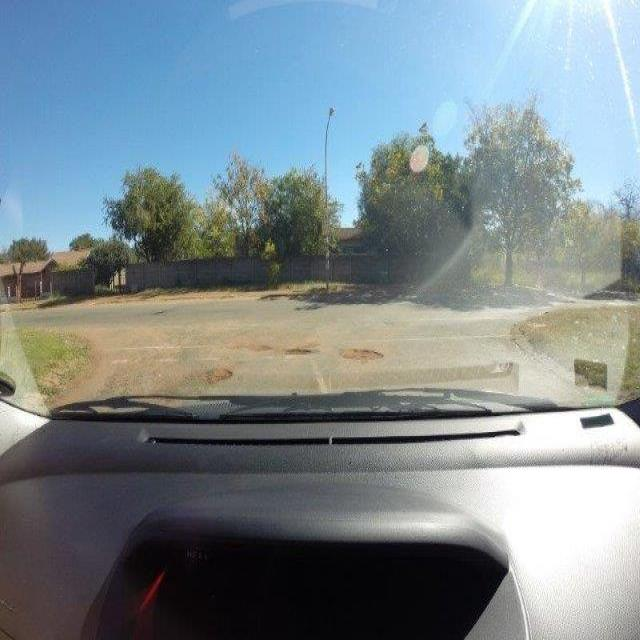jalan retak: (152, 308, 172, 318)
lubang: (338, 343, 385, 365), (201, 366, 235, 386), (285, 342, 315, 360), (245, 340, 274, 355)
